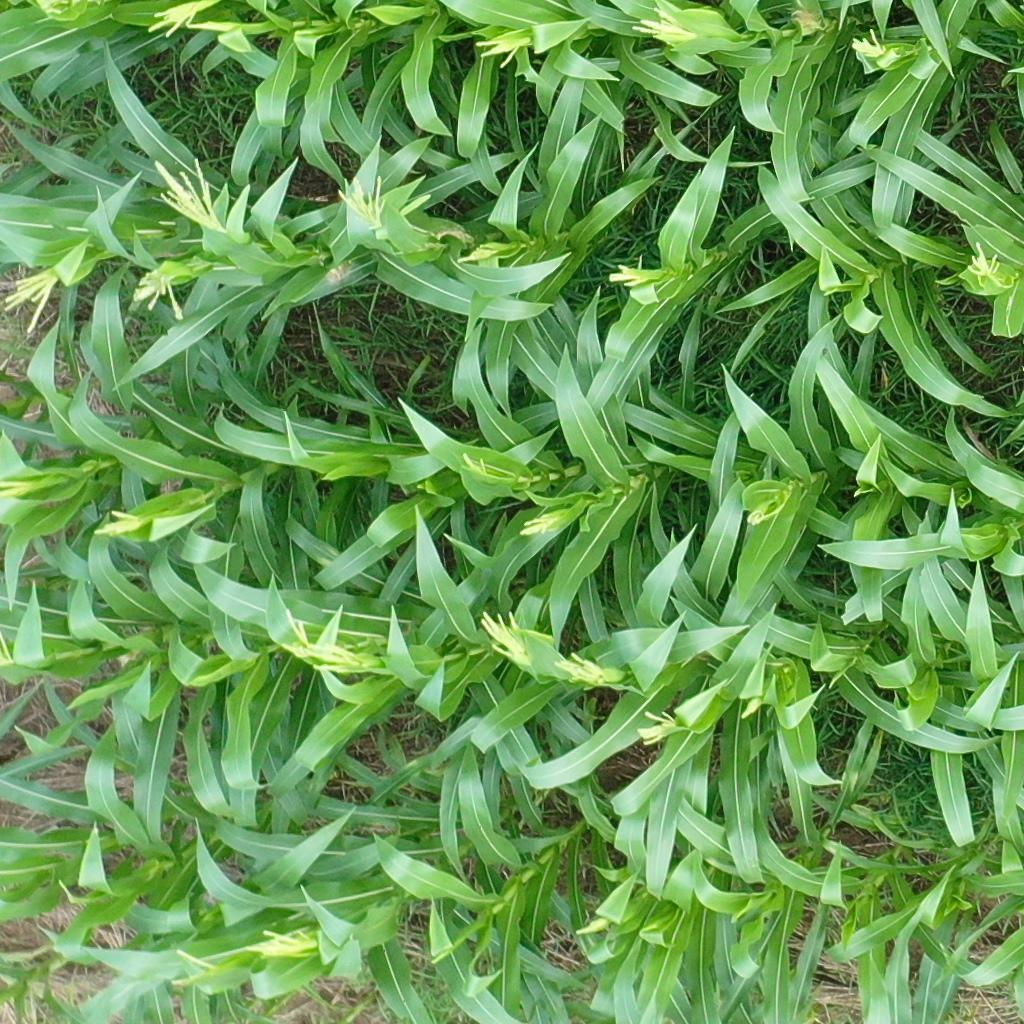Tassel: (275, 606, 397, 675), (151, 152, 236, 234), (333, 175, 391, 237), (3, 269, 60, 331), (473, 611, 531, 667), (144, 1, 231, 38), (243, 927, 324, 964), (633, 1, 696, 47), (132, 270, 186, 320), (165, 948, 225, 992), (624, 704, 685, 744), (554, 648, 610, 690), (963, 244, 1012, 290), (469, 31, 531, 67), (606, 259, 661, 290), (848, 27, 889, 62), (91, 506, 141, 534), (454, 448, 491, 478), (517, 513, 565, 535), (454, 246, 504, 267), (572, 917, 612, 938), (741, 505, 773, 528), (1, 477, 37, 496), (743, 693, 762, 721)
